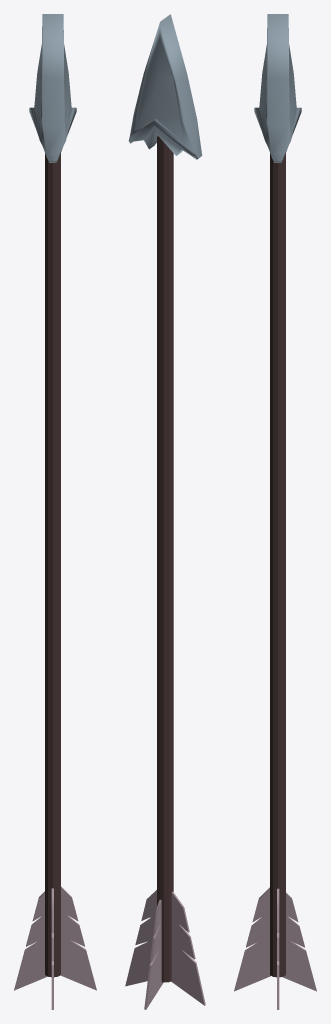
Rendered from arrow.fbx.
3 views of the same model, side by side, from view 1: azimuth 90°, elevation 25°; view 2: azimuth 150°, elevation 25°; view 3: azimuth 270°, elevation 25° (orthographic).
Visible parts, largest first — view 1: frill2_low1; view 2: frill2_low1; view 3: frill2_low1.
Part boxes in pixels (bbox=[...]): frill2_low1: bbox=[14, 14, 96, 1009]; frill2_low1: bbox=[125, 14, 205, 1009]; frill2_low1: bbox=[234, 14, 316, 1009].
Size of the model in its own units: 0.2157 by 2.53 by 0.1944.
